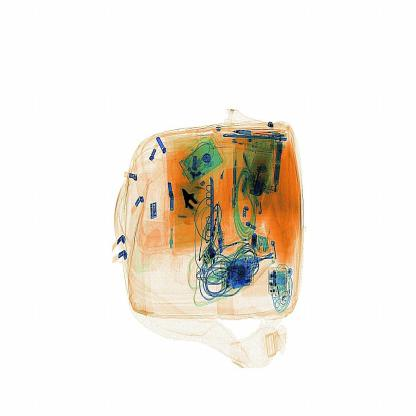gun: (175, 178, 211, 230)
